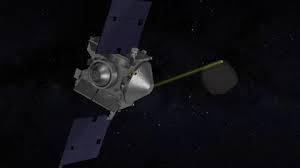antenna: (199, 57, 240, 97)
body: (70, 33, 157, 115)
solar: (93, 0, 156, 56), (56, 112, 114, 168)
